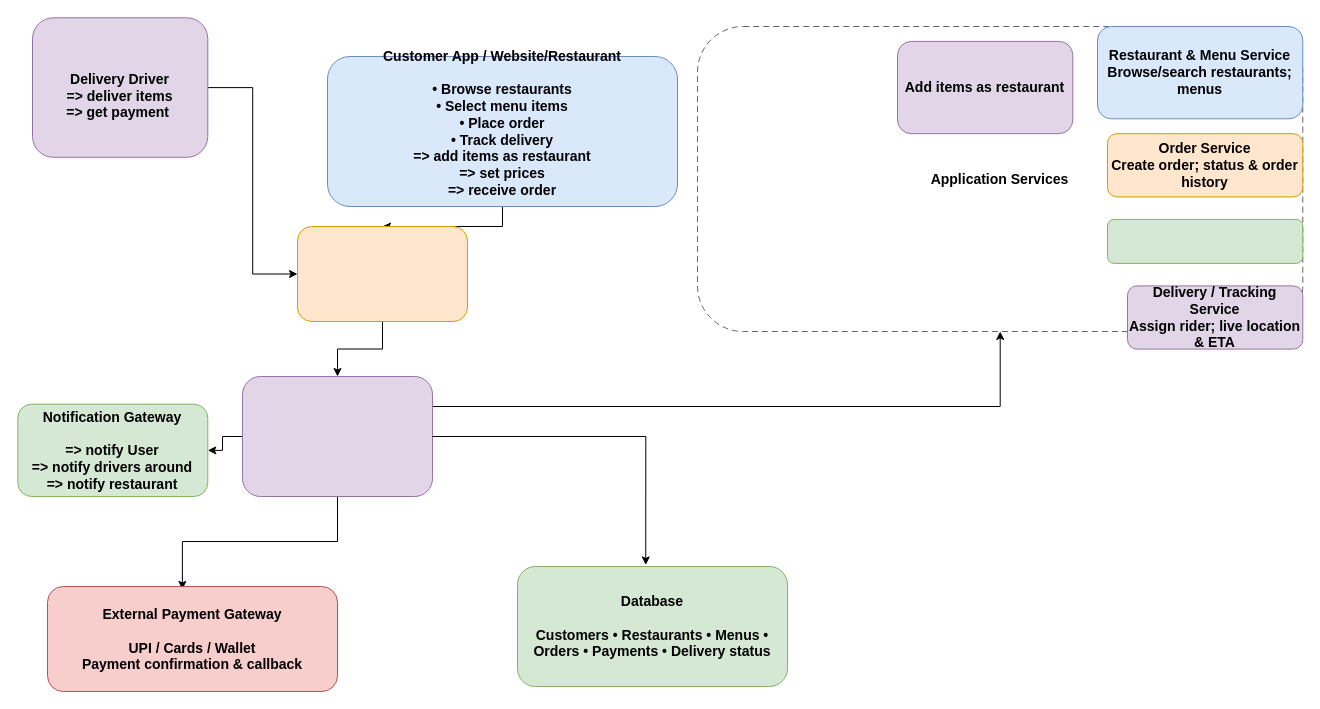
This 1320x709 diagram has some shape labels left out. The shapes that lost their labels are listed below. From the top down, each one's centre as x and y in pixels, then its label:
At pixel 1204 240: "Payment Service Initiate payment; verify result".
At pixel 382 274: "Load Balancer Routes traffic; distributes requests".
At pixel 337 436: "Backend API / Application Server Authentication • API handling • Business logic".
